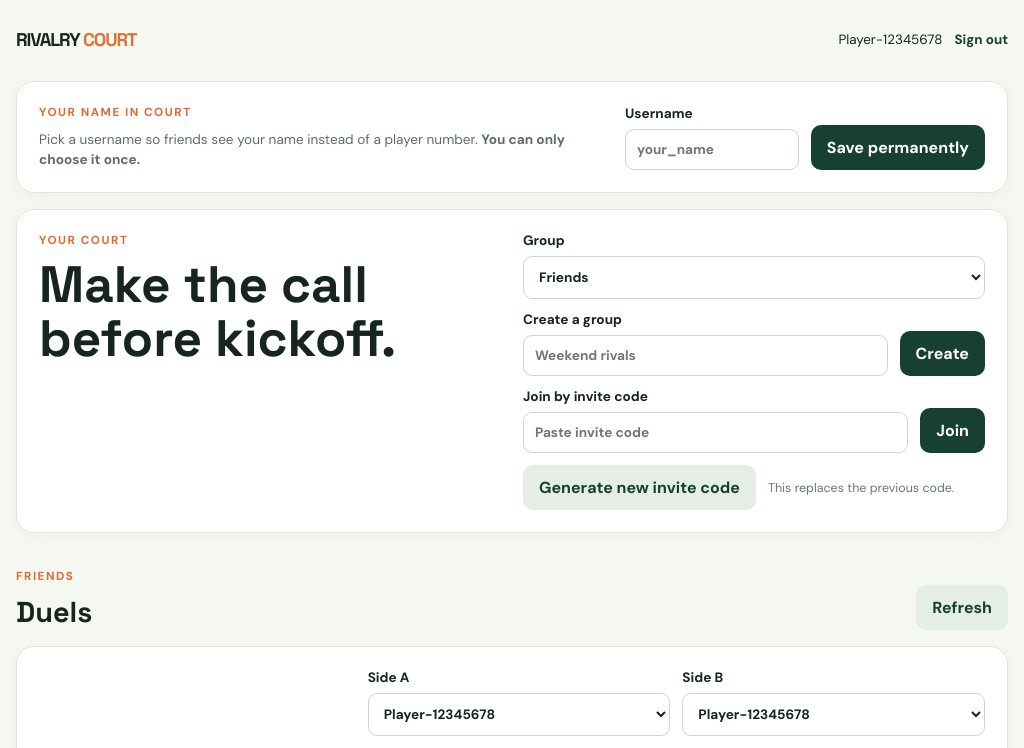
an admin can replace a lost invite code
The image size is (1024, 748).
Click the button "Generate new invite code" at point(639, 488), box [523,465,756,510]
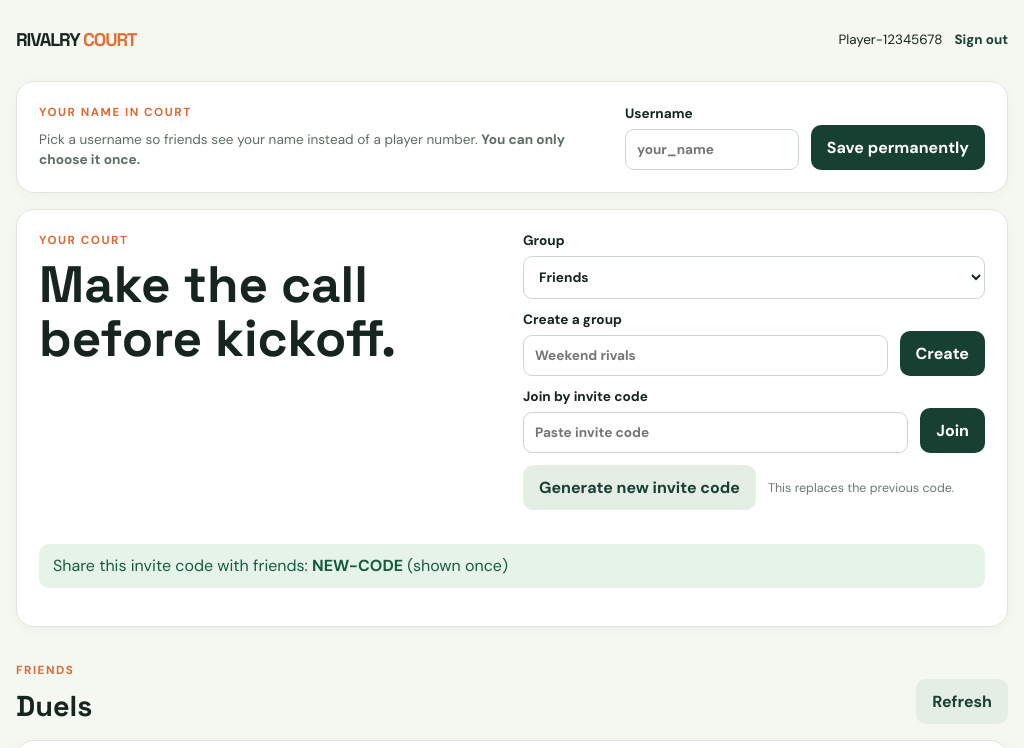
expect the text "NEW-CODE" is shown: met, box [312,555,403,576]
